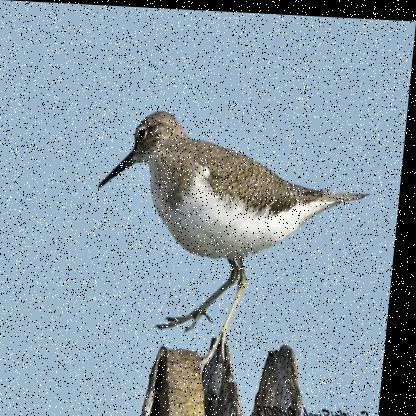Burung: (90, 103, 377, 361)
